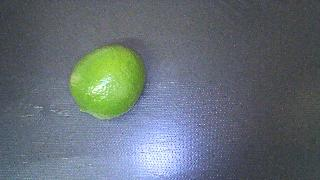EXPORTACION: (70, 45, 146, 119)
